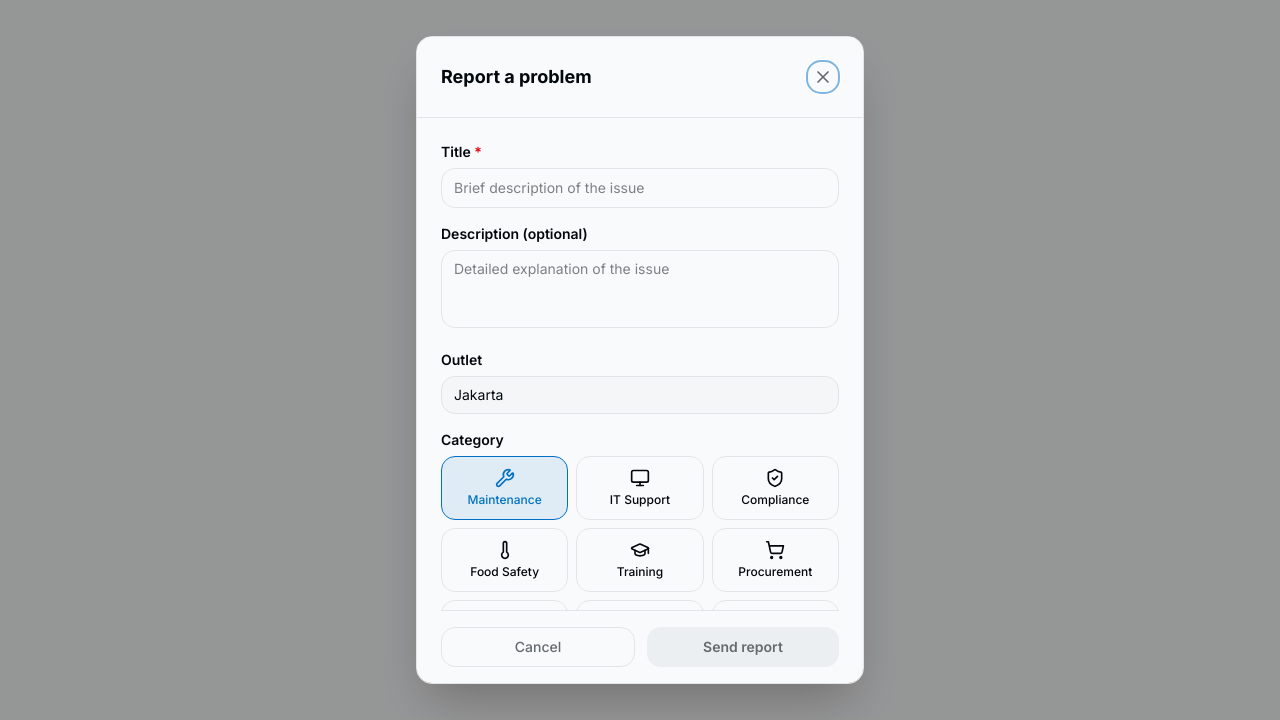
Test: quick report mode (Todo-Pilot §20) › sends with only a title — no due date needed — and shows the issue number
Type "Wastafel bocor" into the field labelled "Title *" at [640, 188], box [441,168,839,208]
(page scrolled)
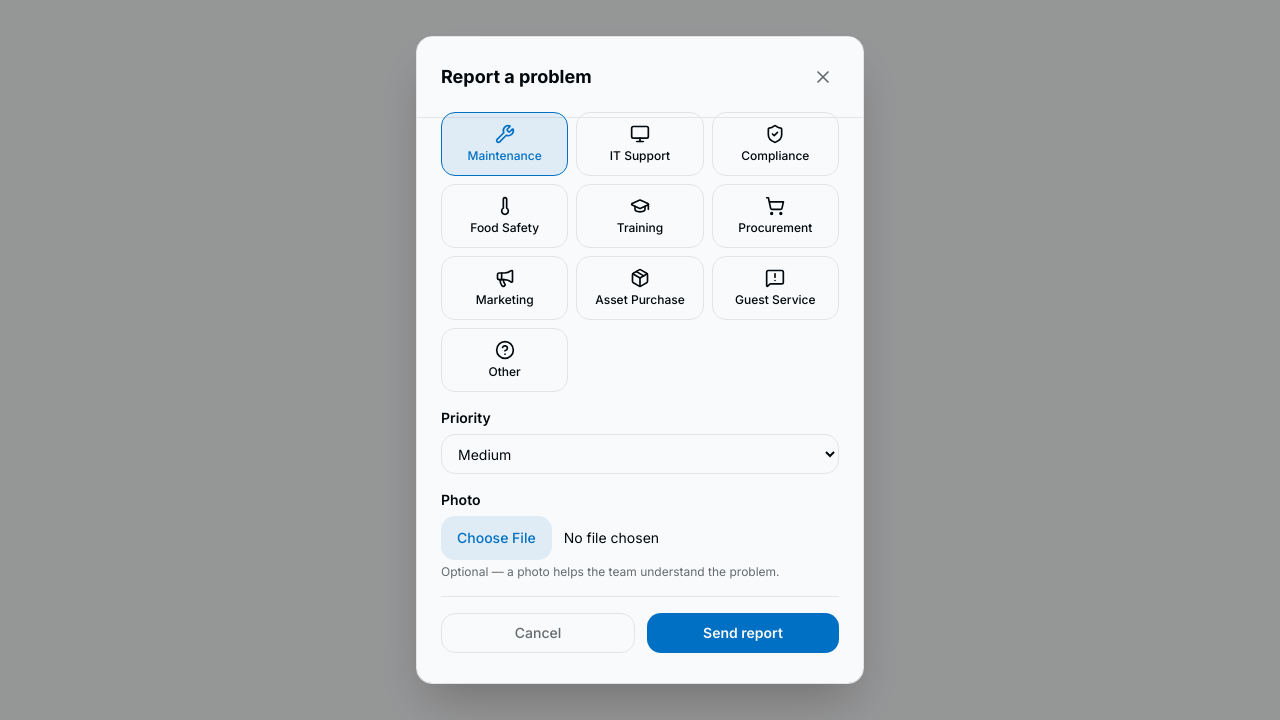
Click the radio button labelled "Other" at [505, 360], box [441,328,568,392]
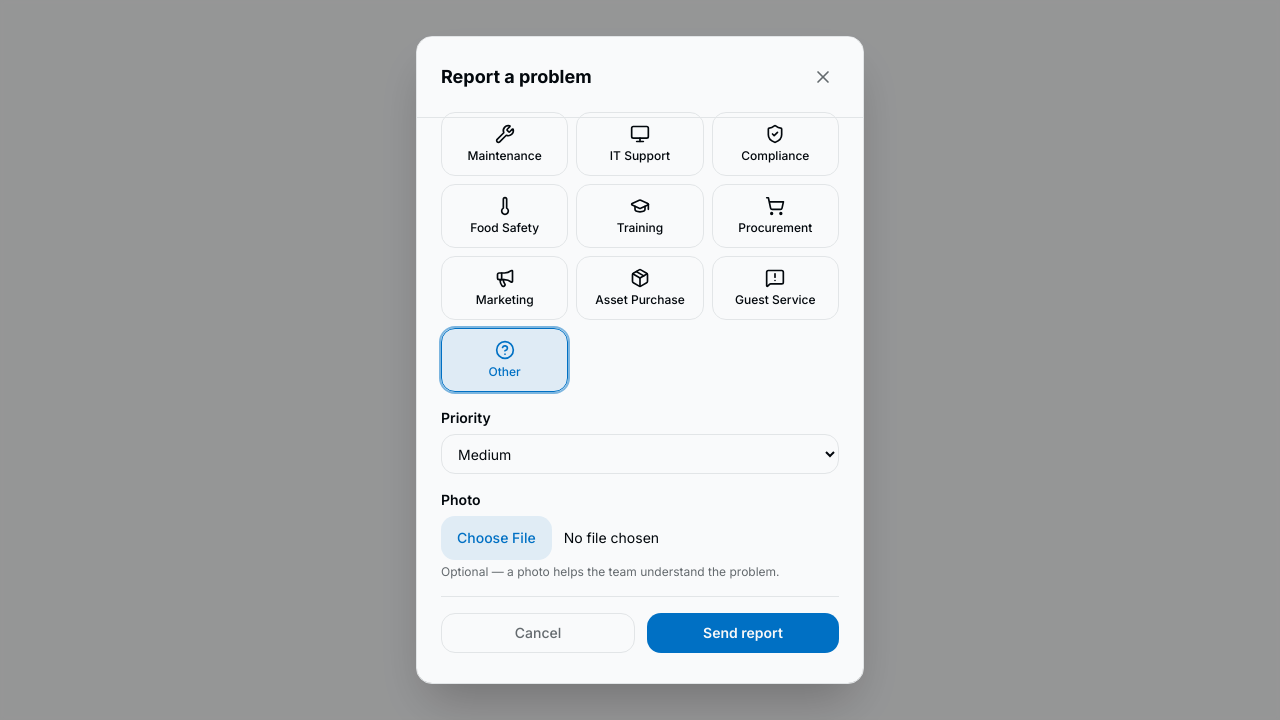
Click the button "Send report" at [743, 633], box [647,613,839,653]
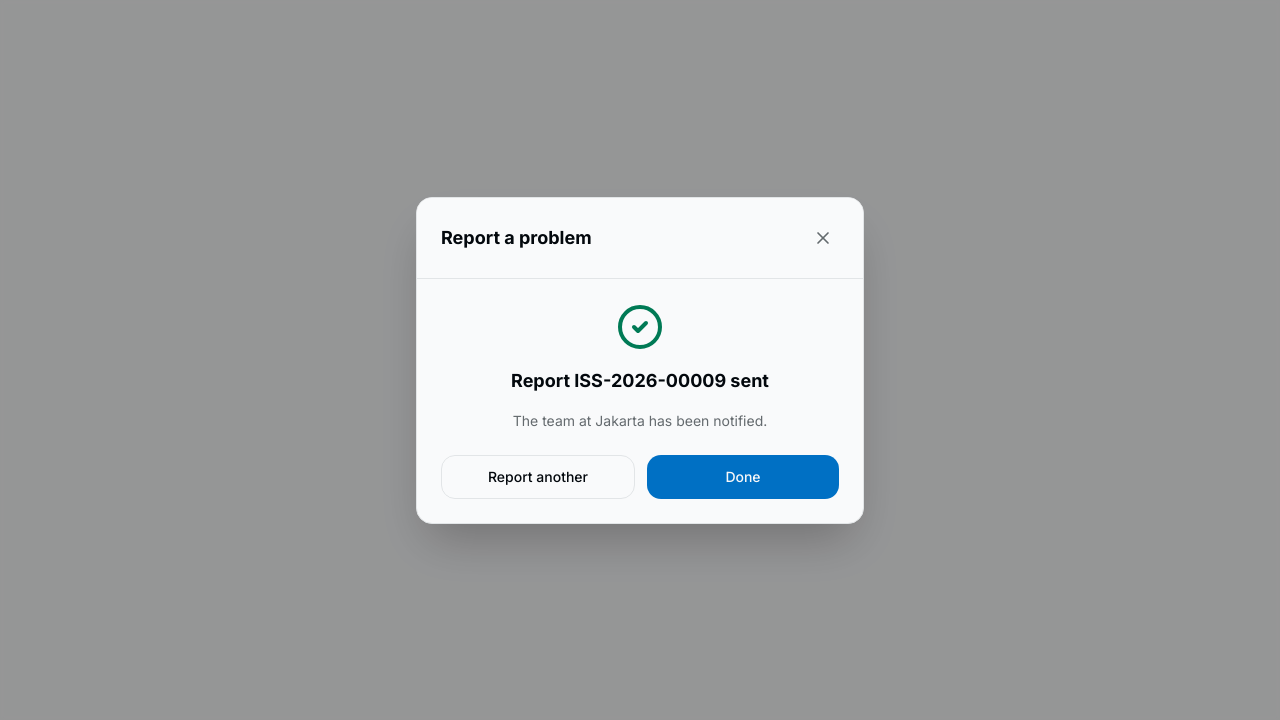
Now the text "Report ISS-2026-00009 sent" is shown, box [511,370,769,390]
